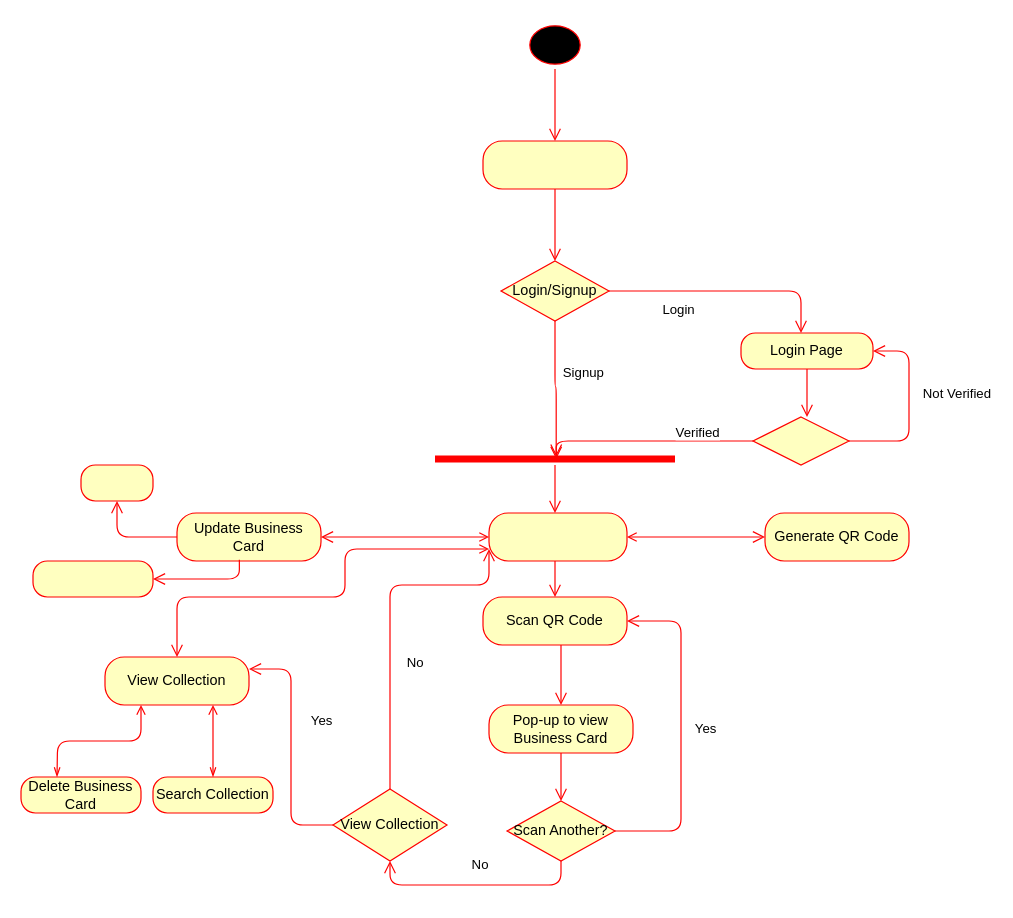
This 1013x918 diagram has some shape labels left out. The shapes that lost their labels are listed below. From the top down, each one's centre as x and y in pixels, then its label:
At (554,164): "Open Application".
At (800,440): "Verification".
At (116,482): "Save".
At (557,536): "Home Page".
At (92,578): "Save/Generate QR Code".
